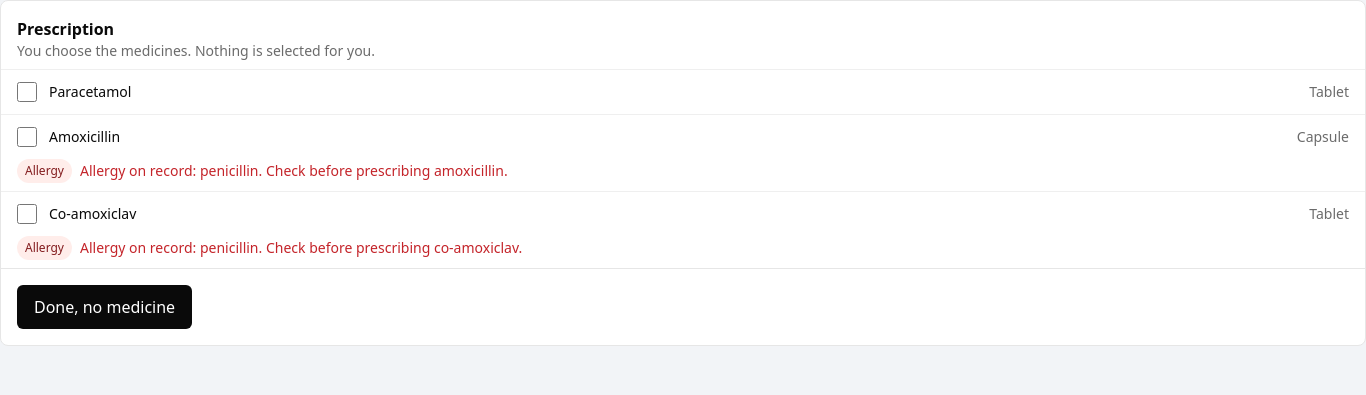
Test: the picker › takes a separate second tap to send no medicine, and says what that means
Later steps or results of the test are not shown.
Expected: the checkbox with test id "drug-DR-PARA" is shown, [17,82,37,102]
What coordinates should you click on to do the following:
click the button with test id "consult-done"
I would click on:
 (105, 307)
Its box is [17,285,192,329].
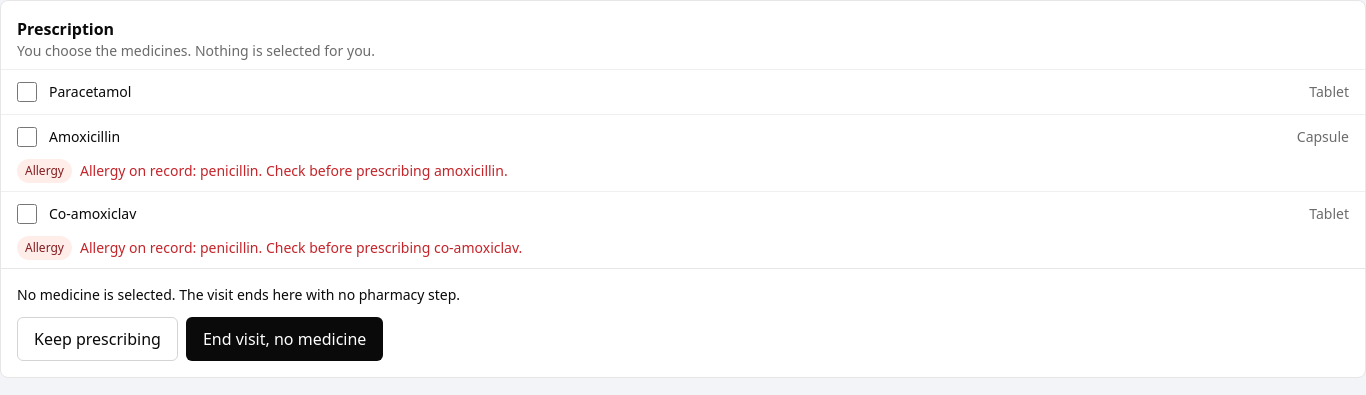
Expected: the message with test id "done-empty-note" shows "no pharmacy step", [17,285,460,304]
What coordinates should you click on to do the following:
click the button with test id "done-empty-cancel"
I would click on:
 (97, 339)
Its box is [17,317,178,361].
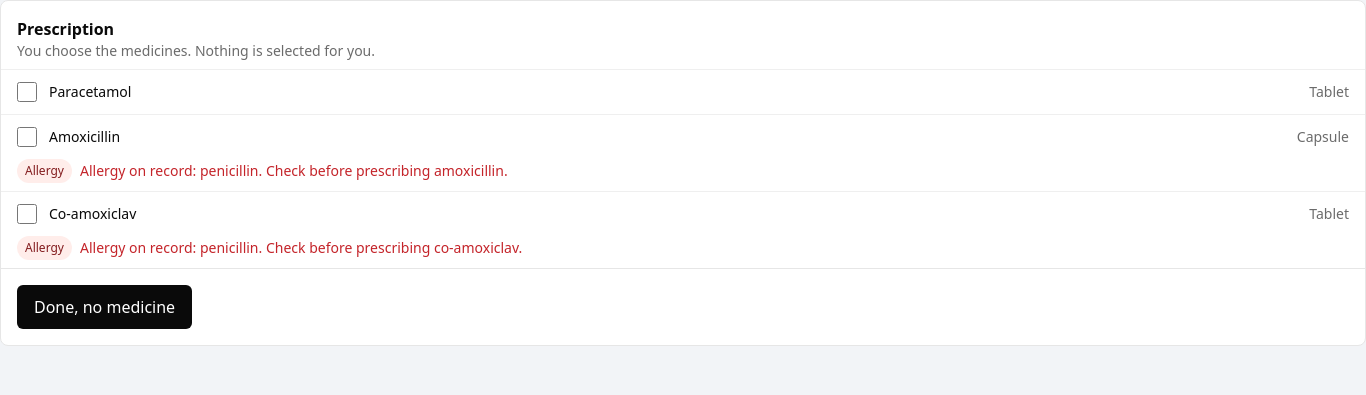
Expected: the message with test id "done-empty-note" is gone
